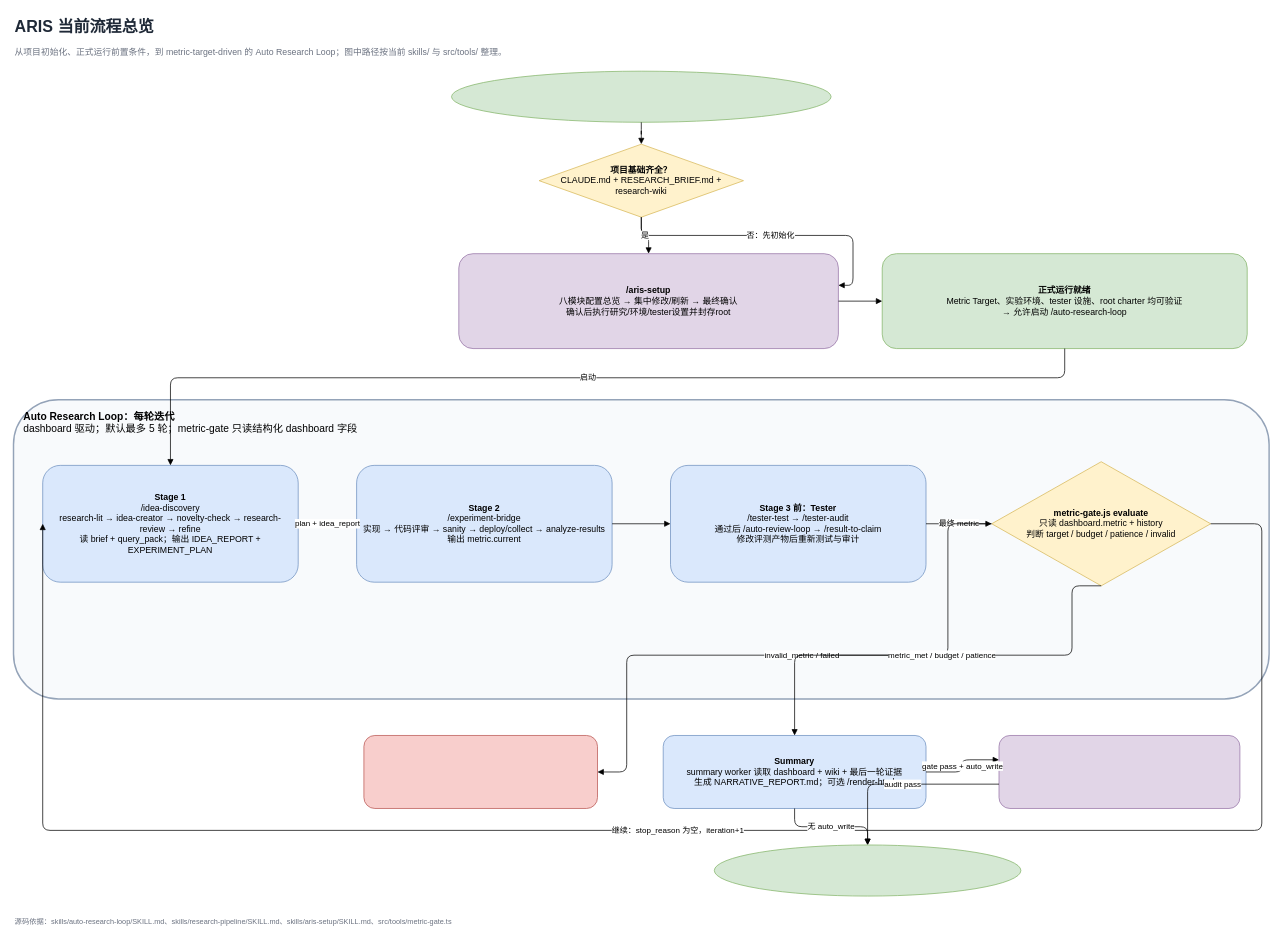
This 1282x945 diagram has some shape labels left out. The shapes that lost their labels are listed below. From the top down, each one's centre as x and y in pixels, then its label:
At (x=641, y=96): "开始 / 恢复 新项目、已有项目或 --resume".
At (x=480, y=771): "失败 / 无效 invalid_metric 或 worker failed 保留 dashboard.failure，停止后续派发".
At (x=1119, y=771): "Paper Writing（可选） AUTO_WRITE=true 且达标；paper audit verifier 通过".
At (x=867, y=870): "完成 dashboard.status=completed；run-state 外层阶段完成".
